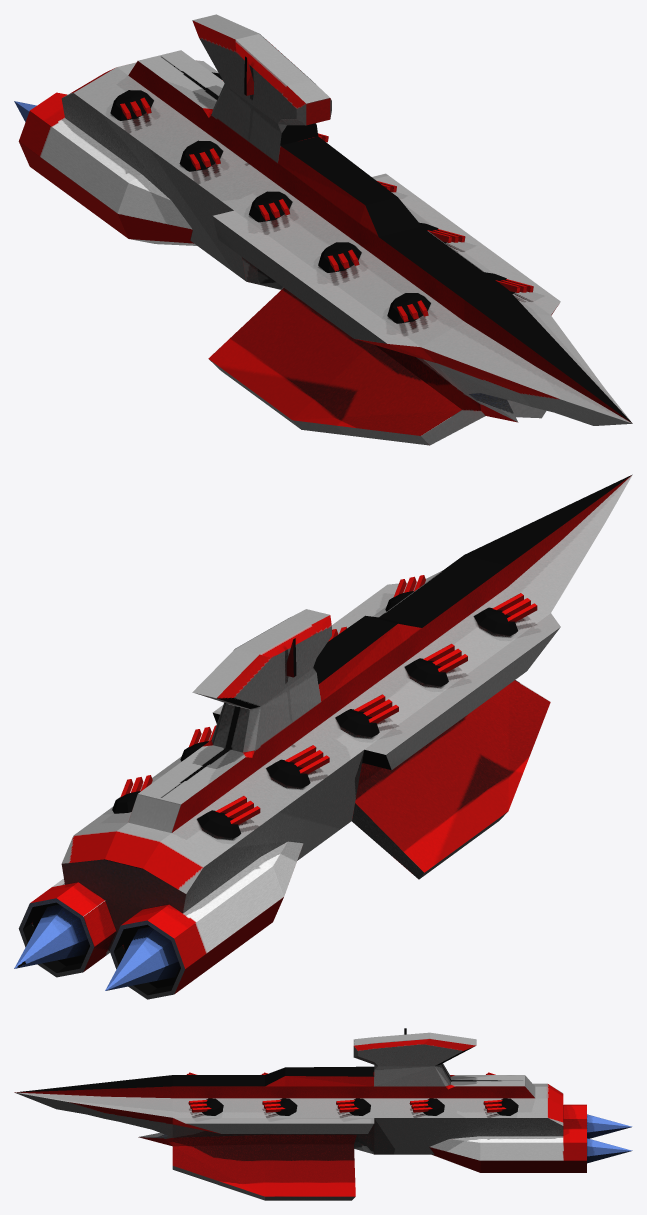
The model's file is fregat.obj.
3 views of the same model, one above another, from view 1: azimuth 30°, elevation 25°; view 2: azimuth 150°, elevation 25°; view 3: azimuth 270°, elevation 25° (orthographic). The views are drawn at different scales.
Parts seen in each view (by area): view 1: fregat.002_Cylinder.028; view 2: fregat.002_Cylinder.028; view 3: fregat.002_Cylinder.028.
Boxes of the visible parts, x1=… form: fregat.002_Cylinder.028: x1=14, y1=14, x2=632, y2=445; fregat.002_Cylinder.028: x1=14, y1=474, x2=632, y2=999; fregat.002_Cylinder.028: x1=14, y1=1028, x2=632, y2=1200.
Bounding box in the file's own units: 2.15 × 2.46 × 9.88.
Materials: 1 (1 with a texture image).
